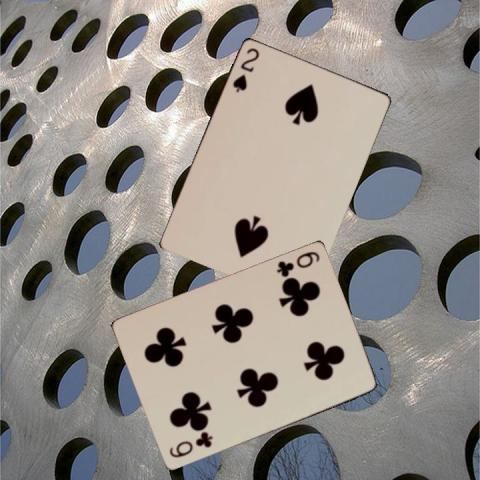2s: (229, 44, 261, 94)
6c: (273, 249, 322, 279), (166, 430, 214, 460)
